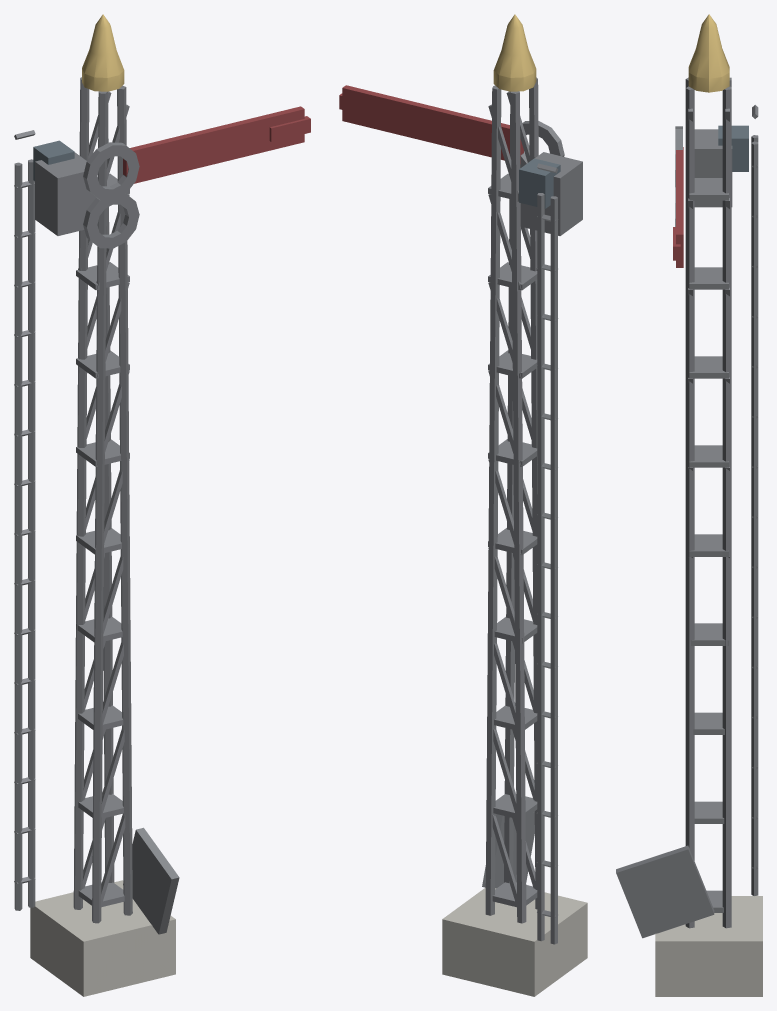
Rendered from steam-era-railway-and-rolling-stock-semaphore-signal-9ca4609d.glb.
3 renders of one model, left to right at view 1: azimuth 30°, elevation 25°; view 2: azimuth 150°, elevation 25°; view 3: azimuth 270°, elevation 25°, orthographic.
Visible parts, largest first — view 1: semaphore-signal, signal-arm/crimson, signal-arm/iron; view 2: semaphore-signal, signal-arm/crimson, signal-arm/iron; view 3: semaphore-signal, signal-arm/crimson.
Part boxes in pixels (box(x1,y1,x2,y2)): semaphore-signal: box(14, 14, 179, 996); signal-arm/crimson: box(123, 106, 310, 183); signal-arm/iron: box(83, 142, 139, 248); semaphore-signal: box(442, 14, 587, 996); signal-arm/crimson: box(339, 85, 523, 163); signal-arm/iron: box(520, 121, 564, 167); semaphore-signal: box(616, 14, 762, 996); signal-arm/crimson: box(673, 147, 683, 267).
Bounding box in the file's own units: 1.93 × 6.9 × 0.9559.
